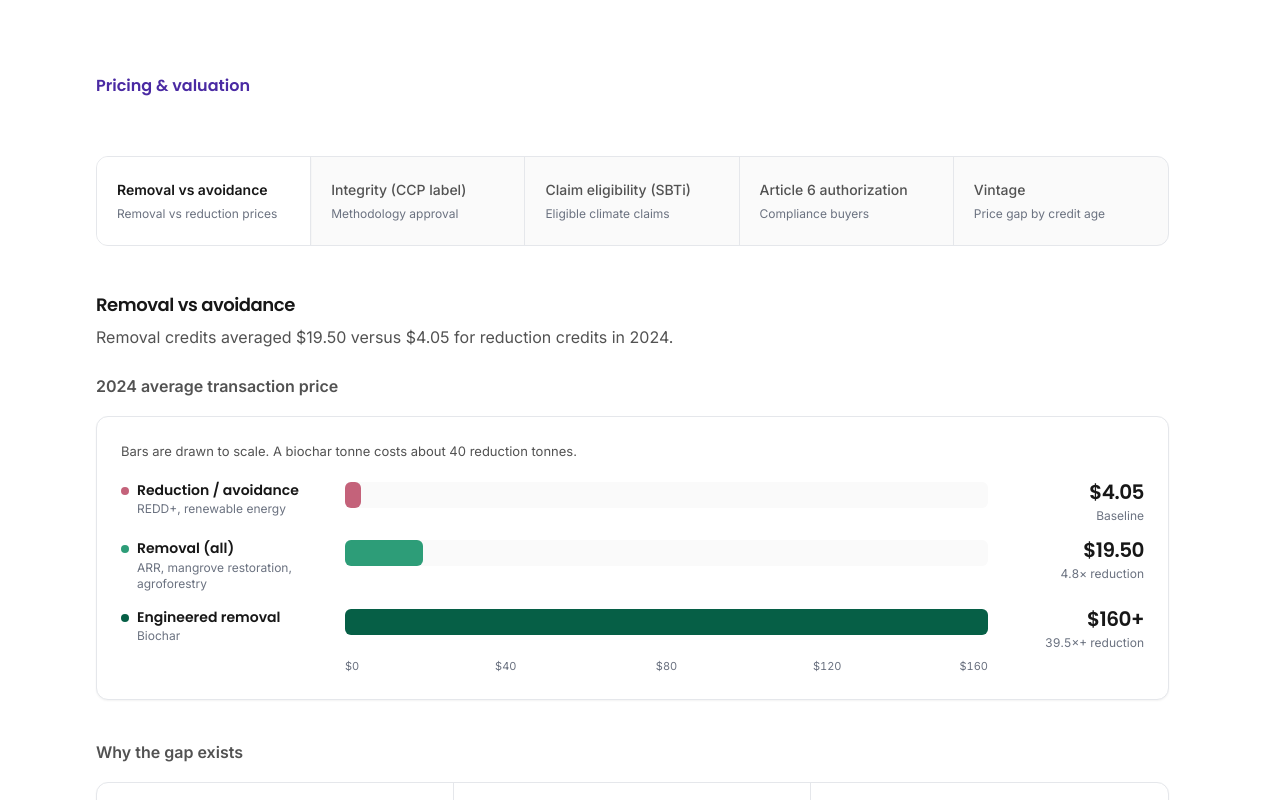
Scenario: Pricing page › shows the claims evidence and source links when selected
Step 1. Click the tab "Claim eligibility (SBTi) Eligible climate claims" → point(632, 201), box top-left (525, 157), bottom-right (740, 245)
(page scrolled)
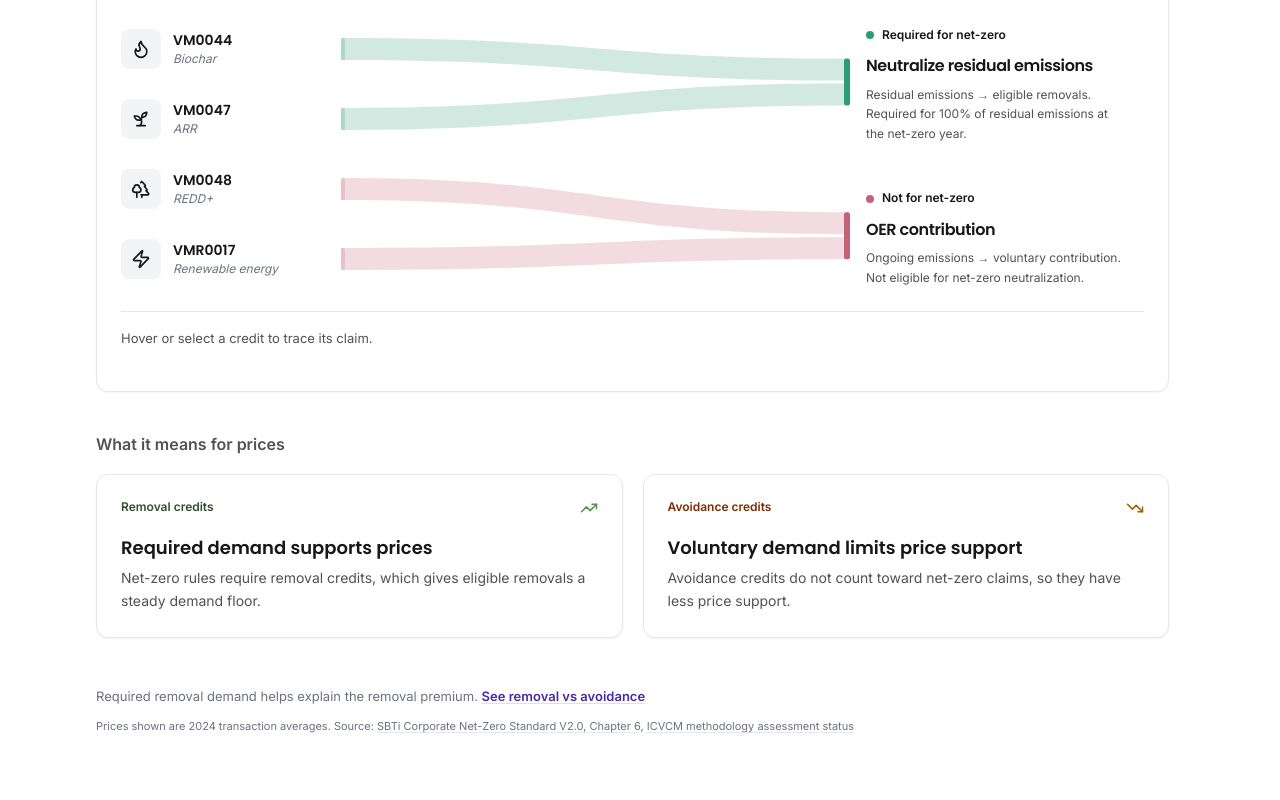
expect the link "SBTi Corporate Net-Zero Standard V2.0, Chapter 6" is shown: met, box top-left (377, 719), bottom-right (640, 733)
